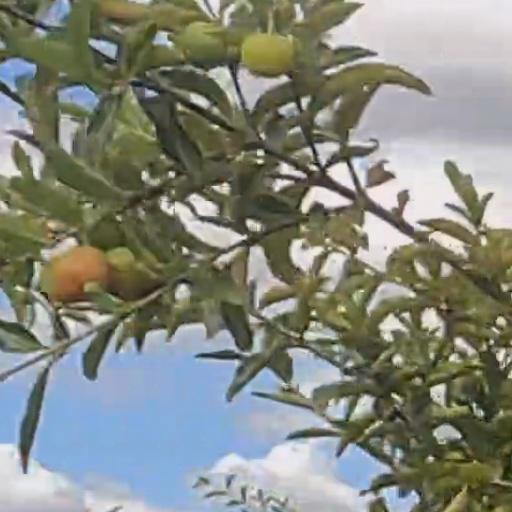acerola: (41, 247, 105, 290), (246, 34, 293, 77), (186, 23, 226, 65)
